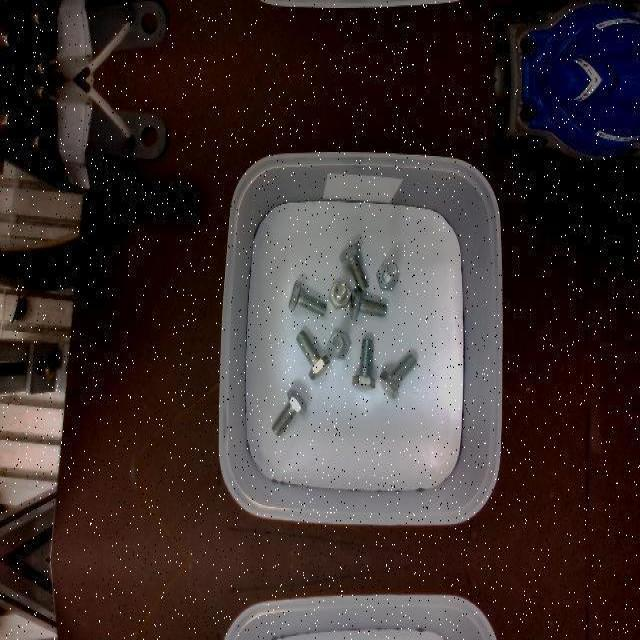screw: (296, 329, 330, 381), (380, 351, 417, 397), (271, 390, 306, 438), (338, 241, 368, 291), (288, 279, 326, 317), (350, 287, 387, 321), (352, 338, 376, 390), (375, 259, 400, 289), (326, 331, 350, 361), (328, 281, 350, 309)
